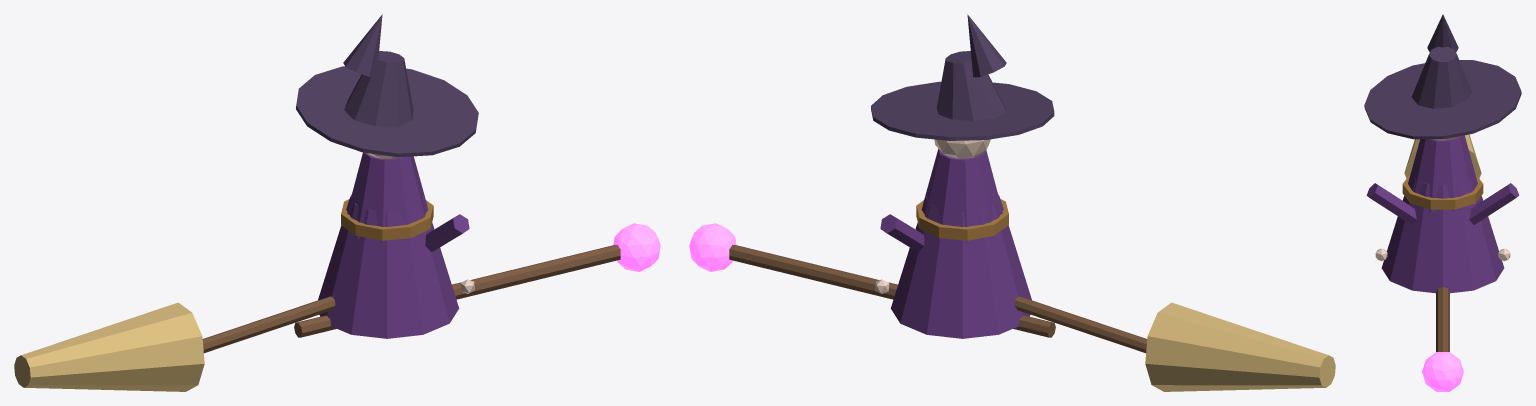
The model's file is Penyihir.glb.
The picture shows the model from 3 angles, left to right: view 1: azimuth 30°, elevation 25°; view 2: azimuth 150°, elevation 25°; view 3: azimuth 270°, elevation 25°; orthographic projection. The views are drawn at different scales.
Parts seen in each view (by area): view 1: Penyihir_Terbang_Detail_RondaMalam; view 2: Penyihir_Terbang_Detail_RondaMalam; view 3: Penyihir_Terbang_Detail_RondaMalam.
Boxes of the visible parts, left/top/right/bottom form: Penyihir_Terbang_Detail_RondaMalam: left=14, top=14, right=660, bottom=391; Penyihir_Terbang_Detail_RondaMalam: left=689, top=14, right=1335, bottom=391; Penyihir_Terbang_Detail_RondaMalam: left=1364, top=14, right=1521, bottom=391.
Size of the model in its own units: 3.57 by 1.73 by 0.8972.
